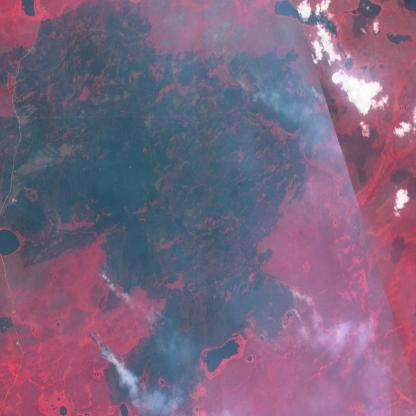fire: (249, 82, 274, 117)
